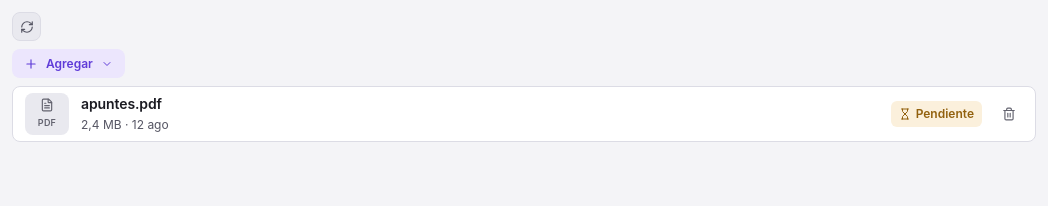
Test case: AdjuntosSection — Agregar menu › offers both creation paths behind one entry point
The image size is (1048, 206).
Click the button "Agregar" at (68, 64), box x1=12 y1=49 x2=125 y2=78
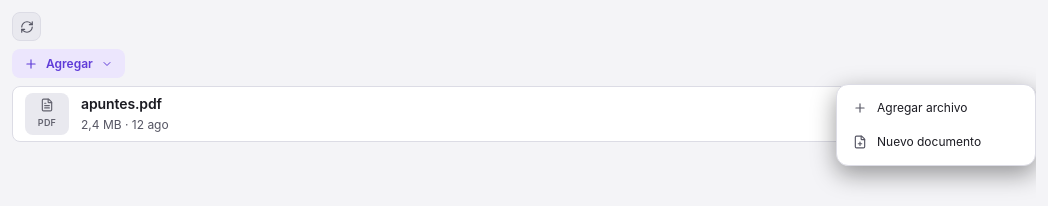
Expected: the menu item "Agregar archivo" is shown, x1=843 y1=91 x2=1029 y2=125
Expected: the menu item "Nuevo documento" is shown, x1=843 y1=125 x2=1029 y2=159
